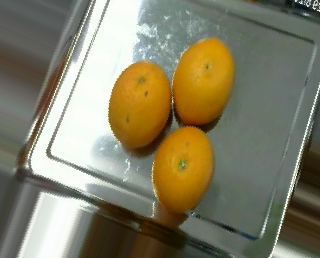Orange: (149, 126, 214, 215), (107, 60, 170, 151), (170, 36, 233, 126)
